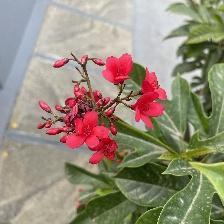jatropha: (66, 113, 109, 152), (137, 91, 167, 129), (104, 52, 132, 84)
